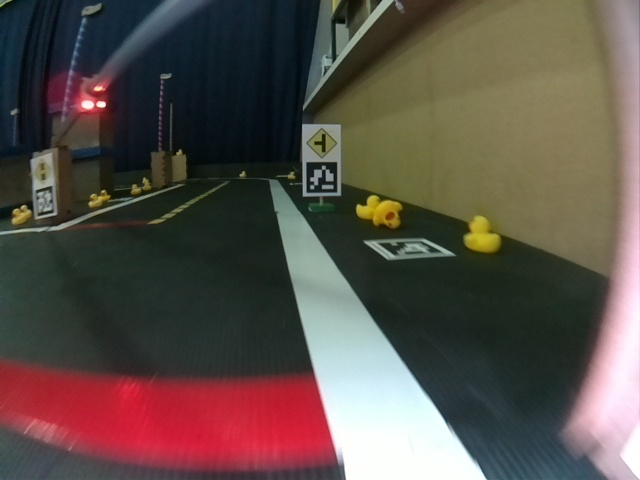Duckie: (464, 216, 501, 254), (372, 200, 402, 228), (355, 195, 379, 219), (11, 210, 27, 224), (88, 194, 102, 207), (20, 205, 32, 218), (100, 190, 111, 200), (130, 185, 139, 194), (143, 181, 151, 190), (239, 169, 247, 178), (287, 172, 295, 180), (176, 149, 183, 158)
Intersection sign: (305, 127, 339, 157)
QR code: (365, 238, 453, 260), (306, 161, 338, 194), (35, 186, 55, 216)
Signal sign: (32, 159, 53, 184)
